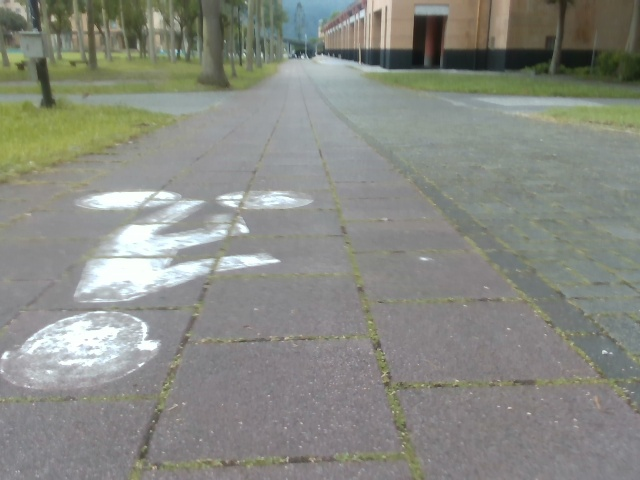grass: (0, 53, 287, 185), (0, 0, 288, 108), (342, 58, 639, 137)
road: (0, 61, 639, 479)
